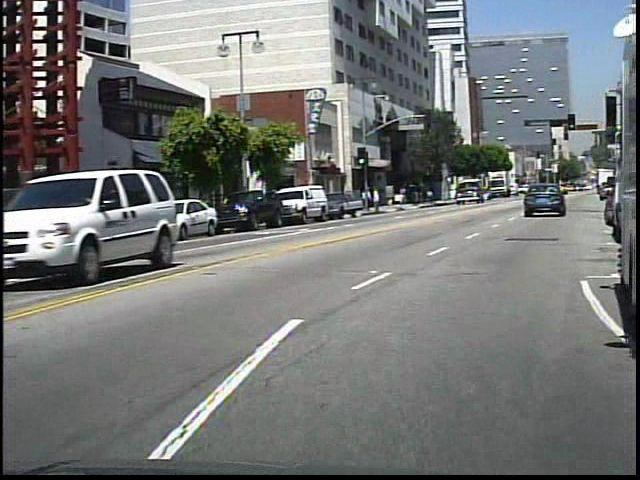person: (373, 186, 388, 215), (370, 185, 371, 213)
